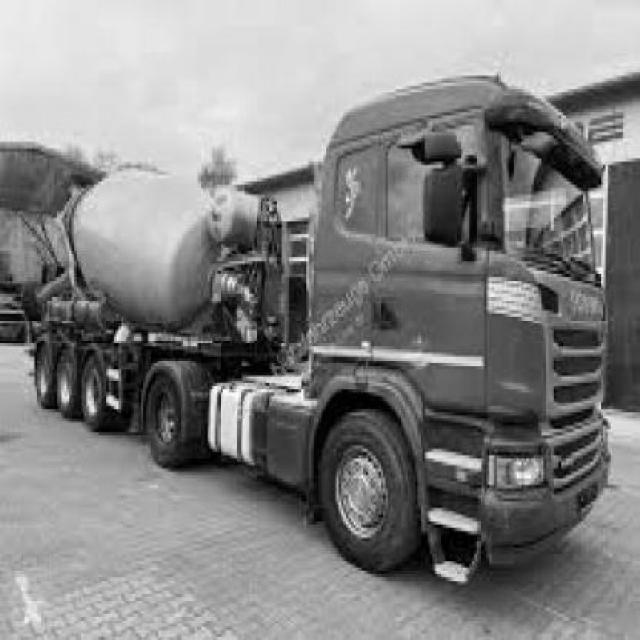Concrete Mixer: (32, 76, 624, 587)
